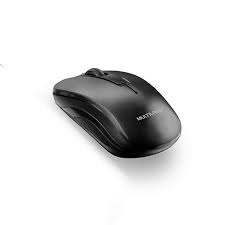mouse: (49, 61, 188, 163)
